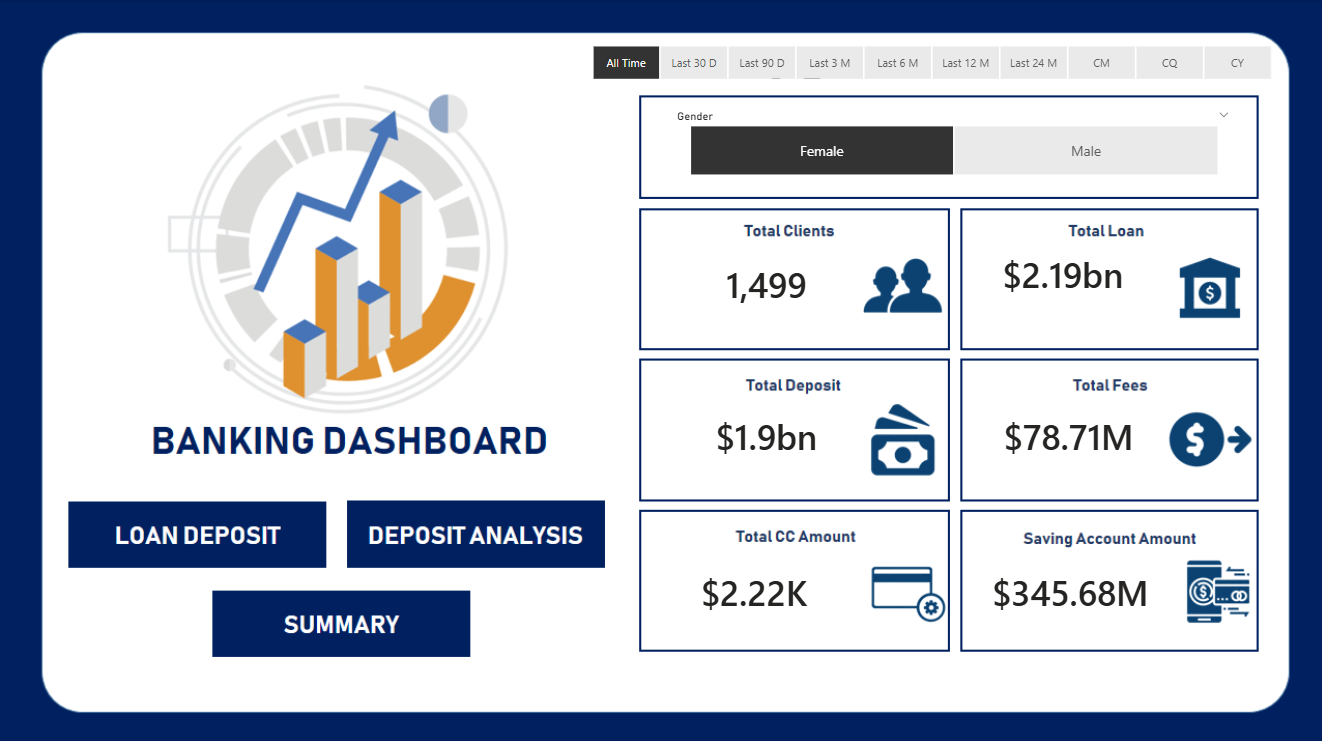

Layout of this report page (visuals, bound fields, positions):
{"tool":"powerbi","page":{"name":"Home","canvas":[1280,720],"ordinal":0},"visuals":[{"type":"slicer","fields":{"Values":["Gender.Gender"]},"box":[640.3,100.8,558.2,75],"z":0},{"type":"card","fields":{"Values":["DAX Measures.Total Clients"]},"box":[640.3,218.1,198.2,114.9],"z":1000},{"type":"card","fields":{"Values":["DAX Measures.Total Loan"]},"box":[933.4,208.7,184.1,114.9],"z":2000},{"type":"card","fields":{"Values":["DAX Measures.Total Deposit"]},"box":[640.3,374.1,198.2,98.5],"z":3000},{"type":"card","fields":{"Values":["DAX Measures.Total CC Amount"]},"box":[628.5,533.6,198.2,79.7],"z":4000},{"type":"card","fields":{"Values":["DAX Measures.Total Fees"]},"box":[938.1,372.9,185.3,99.7],"z":5000},{"type":"card","fields":{"Values":["DAX Measures.Savings Account"]},"box":[933.4,533.6,198.2,79.7],"z":6000},{"type":"actionButton","box":[63.3,483.1,253.3,65.7],"z":7000},{"type":"actionButton","box":[335.4,485.5,250.9,63.3],"z":8000},{"type":"actionButton","box":[205.2,573.4,255.6,61],"z":9000},{"type":"slicer","fields":{"Values":["Period.Name"]},"box":[546.4,38.7,703.6,45.7],"z":10000}]}

Visuals, with their boxes in screenshot pixels (x1, y1, x2, y2), scaled from the page's 1280x720 canvas onto the 1322x741 screenshot:
slicer - Gender.Gender: {"x1": 661, "y1": 104, "x2": 1238, "y2": 181}
card - DAX Measures.Total Clients: {"x1": 661, "y1": 224, "x2": 866, "y2": 343}
card - DAX Measures.Total Loan: {"x1": 964, "y1": 215, "x2": 1154, "y2": 333}
card - DAX Measures.Total Deposit: {"x1": 661, "y1": 385, "x2": 866, "y2": 486}
card - DAX Measures.Total CC Amount: {"x1": 649, "y1": 549, "x2": 854, "y2": 631}
card - DAX Measures.Total Fees: {"x1": 969, "y1": 384, "x2": 1160, "y2": 486}
card - DAX Measures.Savings Account: {"x1": 964, "y1": 549, "x2": 1169, "y2": 631}
actionButton: {"x1": 65, "y1": 497, "x2": 327, "y2": 565}
actionButton: {"x1": 346, "y1": 500, "x2": 606, "y2": 565}
actionButton: {"x1": 212, "y1": 590, "x2": 476, "y2": 653}
slicer - Period.Name: {"x1": 564, "y1": 40, "x2": 1291, "y2": 87}
